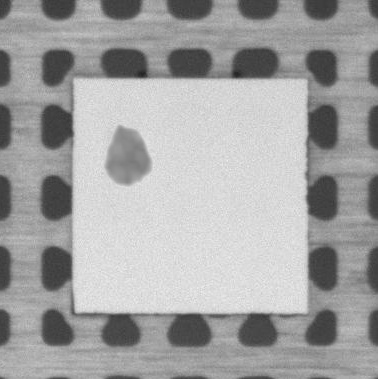DIE_INK: (103, 123, 152, 186)
